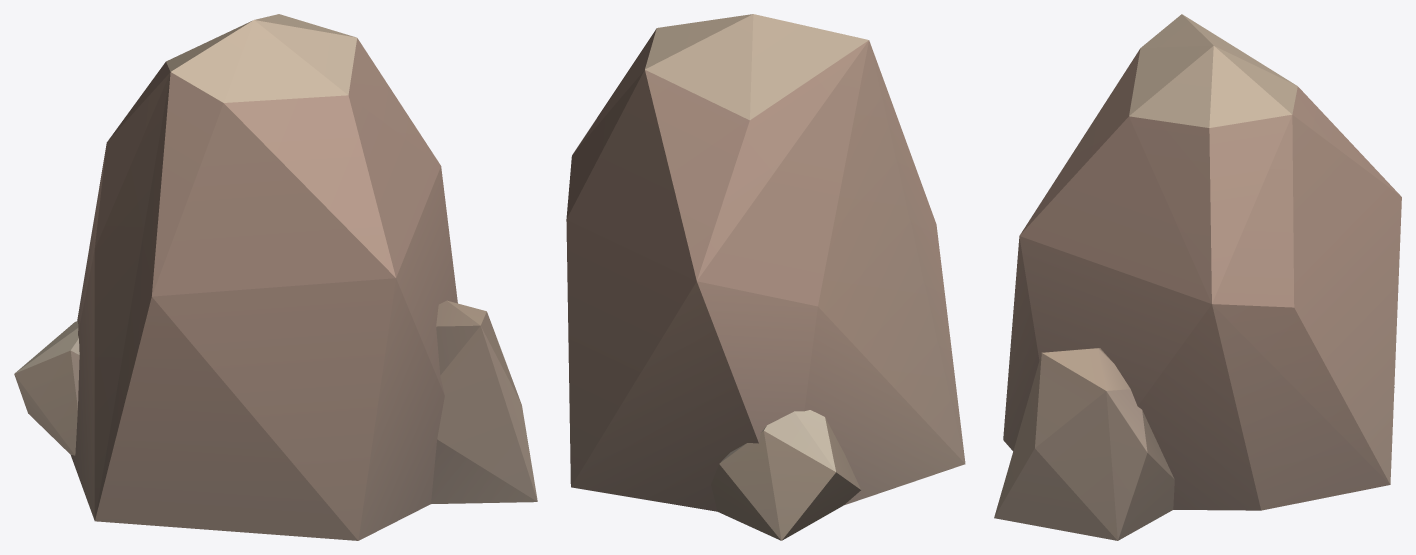
Rendered from rock_0.glb.
The picture shows the model from 3 angles, left to right: view 1: azimuth 30°, elevation 25°; view 2: azimuth 150°, elevation 25°; view 3: azimuth 270°, elevation 25°; orthographic projection. The views are drawn at different scales.
Size of the model in its own units: 1.55 by 1.6 by 1.48.
